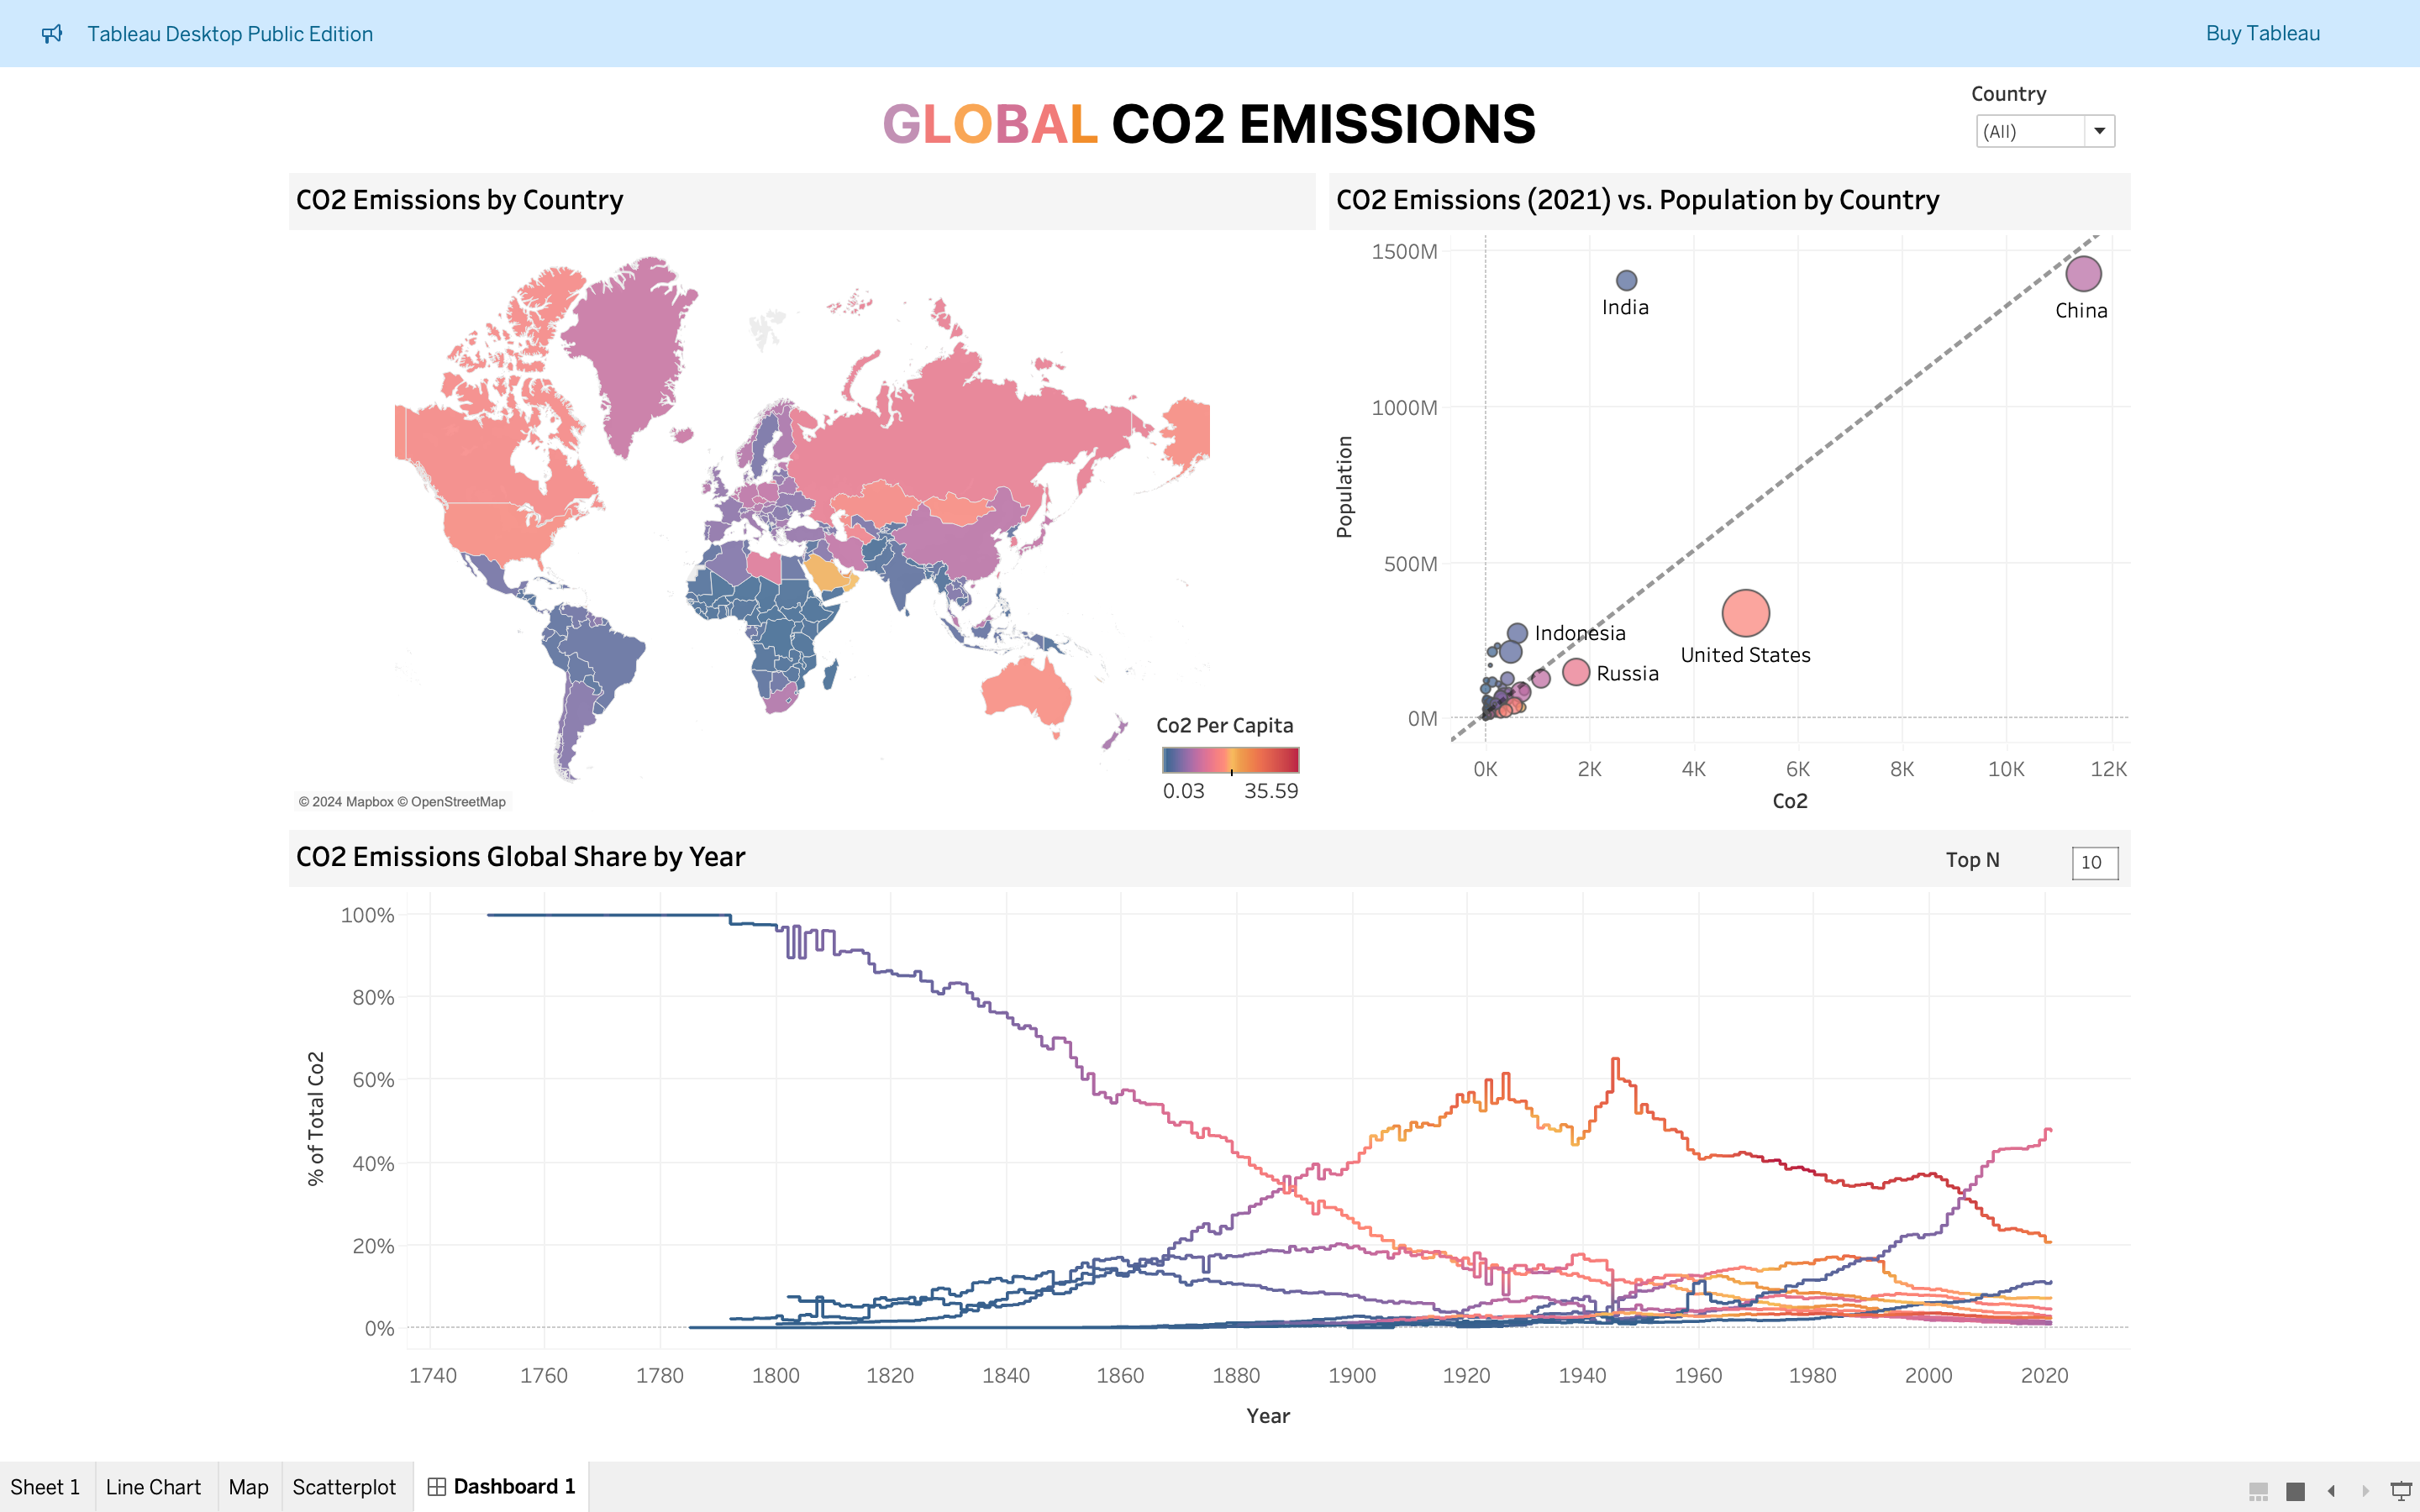

What the dashboard file says about the page in this screenshot:
{"tool":"tableau","page":{"name":"Dashboard 1","canvas":[1000,1000],"units":"permille","ordinal":0},"visuals":[{"type":"filter","title":"Map","param":"[federated.1hhztm60xtci3p1f5afjv0gxy67k].[none:Country (copy)_399131574426877952","box":[904.5,9,79.5,63.2]},{"type":"text","box":[7.1,12,985.7,61.6]},{"type":"worksheet","title":"Map","mark":"Automatic","box":[7.1,73.7,552.7,467.8]},{"type":"worksheet","title":"Scatterplot","mark":"Circle","rows":["population"],"cols":["co2"],"box":[559.8,73.7,433,467.8]},{"type":"legend","title":"Map","param":"[federated.1hhztm60xtci3p1f5afjv0gxy67k].[sum:co2_per_capita:qk]","box":[471.4,461.7,80.4,81.2]},{"type":"worksheet","title":"Line Chart","mark":"Automatic","cols":["year"],"box":[7.1,541.5,985.7,446.5]},{"type":"parameter","param":"[Parameters].[Parameter 1]","box":[891.1,554.9,94.6,39.1]}]}

Visuals, with their boxes on the dashboard's canvas, which has no fixed pixel size, in thousandths of its width and height (x1, y1, x2, y2). These are canvas units, not pixel positions in the 2420x1512 screenshot, which may show the page scaled, cropped or inside an application window:
"Map" filter: {"left": 904, "top": 9, "right": 984, "bottom": 72}
text: {"left": 7, "top": 12, "right": 993, "bottom": 74}
"Map" worksheet: {"left": 7, "top": 74, "right": 560, "bottom": 542}
"Scatterplot" worksheet (Circle marks): {"left": 560, "top": 74, "right": 993, "bottom": 542}
"Map" legend: {"left": 471, "top": 462, "right": 552, "bottom": 543}
"Line Chart" worksheet: {"left": 7, "top": 542, "right": 993, "bottom": 988}
parameter: {"left": 891, "top": 555, "right": 986, "bottom": 594}
